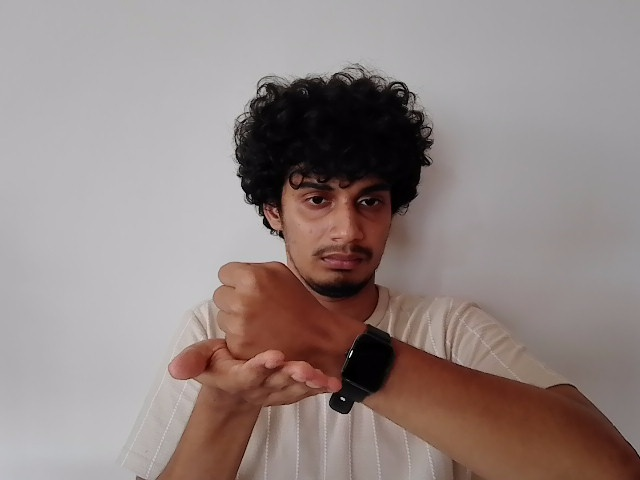help: (163, 261, 377, 415)
